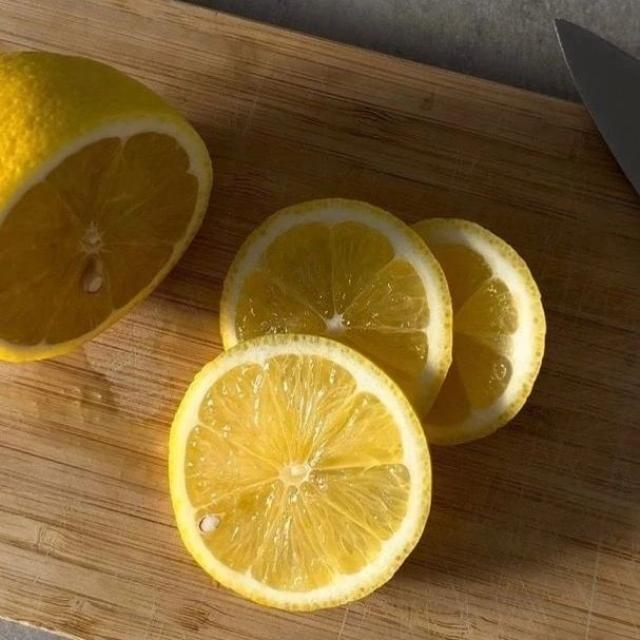lemon: (170, 336, 430, 609), (0, 53, 211, 360), (221, 200, 451, 413), (415, 220, 545, 443)
